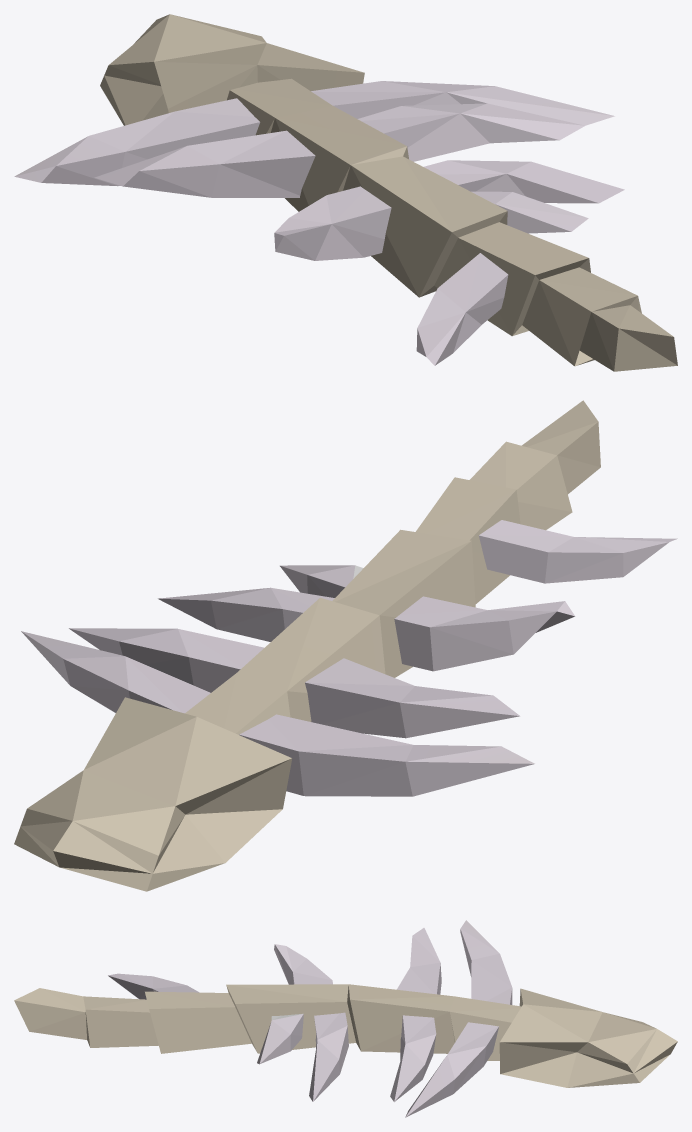
Rendered from Flat_Bone_01.fbx.
The picture shows the model from 3 angles, top to bottom: view 1: azimuth 30°, elevation 25°; view 2: azimuth 150°, elevation 25°; view 3: azimuth 270°, elevation 25°; orthographic projection. The views are drawn at different scales.
Visible parts, largest first — view 1: Bone_01; view 2: Bone_01; view 3: Bone_01.
Boxes of the visible parts, x1,y1,x2,y2 form: Bone_01: (14,14,677,371); Bone_01: (14,400,677,891); Bone_01: (14,920,677,1117).
Bounding box in the file's own units: 297 × 54.2 × 482.
